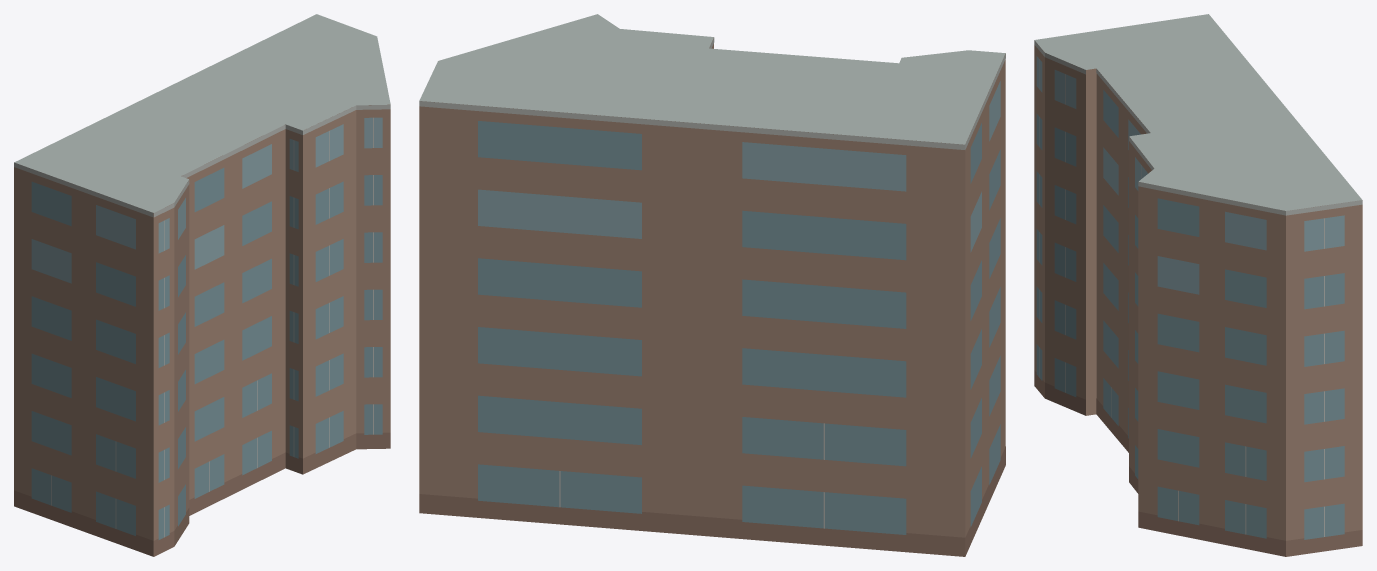
The model's file is survey-upis-32753585.glb.
3 renders of one model, left to right at view 1: azimuth 30°, elevation 25°; view 2: azimuth 150°, elevation 25°; view 3: azimuth 270°, elevation 25°, orthographic. The views are drawn at different scales.
Visible parts, largest first — view 1: survey-upis-32753585.tmp; view 2: survey-upis-32753585.tmp; view 3: survey-upis-32753585.tmp.
Part boxes in pixels (left/top/right/bottom): survey-upis-32753585.tmp: left=14, top=14, right=390, bottom=556; survey-upis-32753585.tmp: left=419, top=14, right=1005, bottom=556; survey-upis-32753585.tmp: left=1034, top=14, right=1362, bottom=556.
Size of the model in its own units: 22.36 by 18.3 by 15.75.
